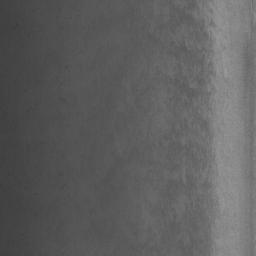Silk spot: (167, 107, 219, 256), (166, 0, 216, 114), (164, 123, 179, 140), (148, 34, 161, 44), (167, 51, 180, 60), (190, 218, 198, 231)
